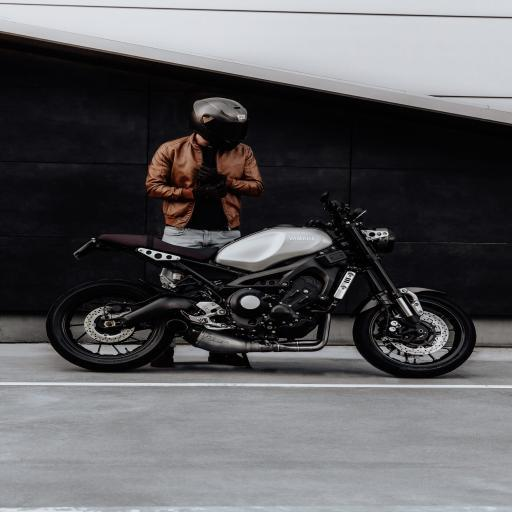helmet: (142, 90, 478, 386)
